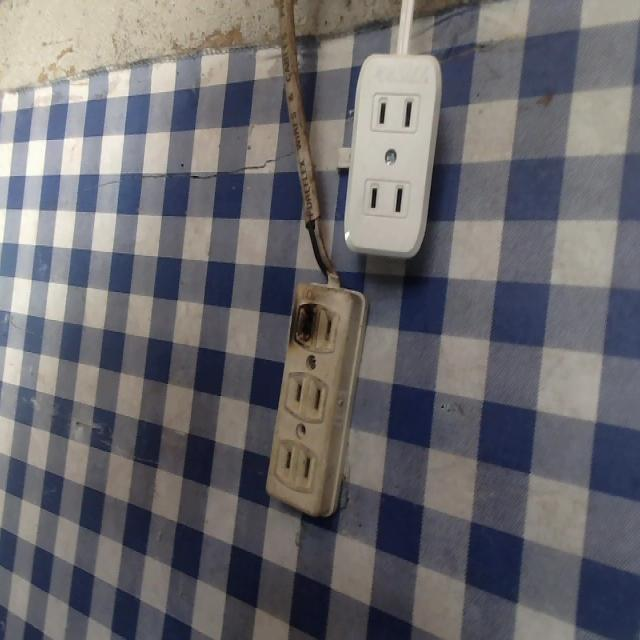-: (289, 297, 320, 348)
